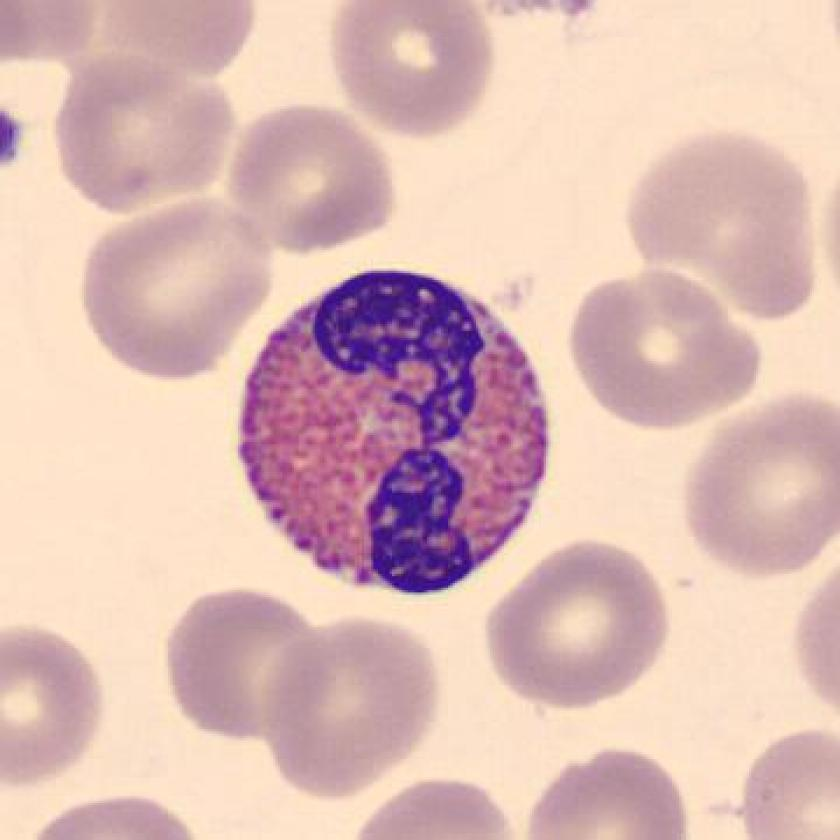eosinophil: (227, 265, 561, 603)
